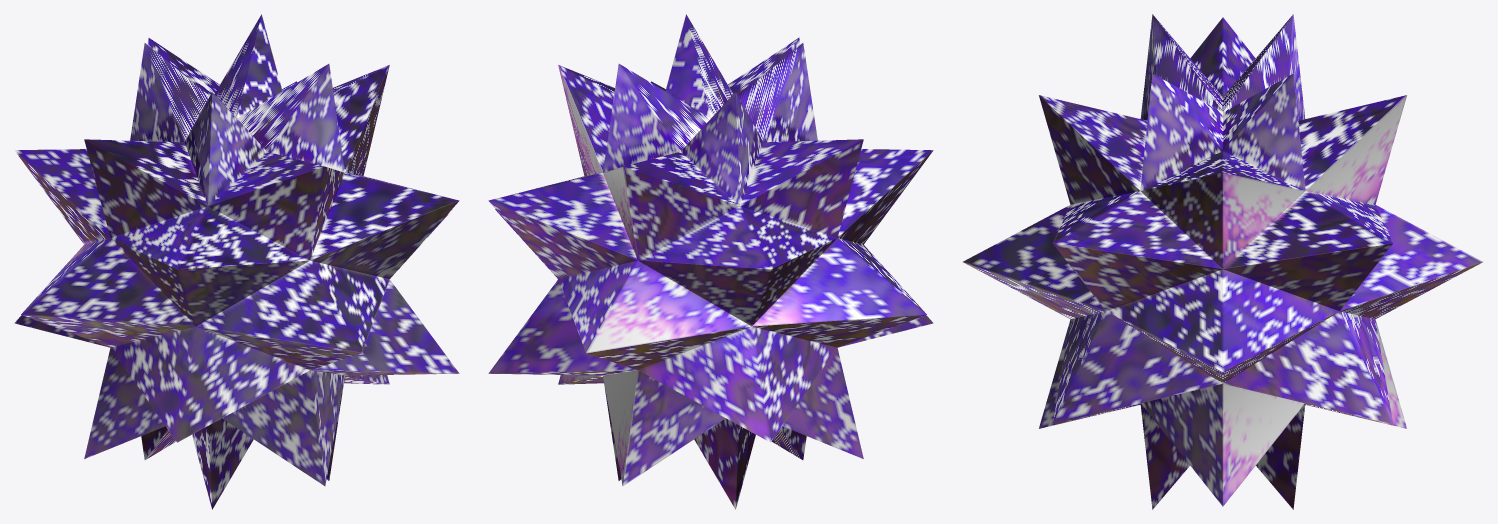
The model's file is artifact.obj.
3 views of the same model, side by side, from view 1: azimuth 30°, elevation 25°; view 2: azimuth 150°, elevation 25°; view 3: azimuth 270°, elevation 25° (orthographic). The views are drawn at different scales.
Parts seen in each view (by area): view 1: frm-sphere2; view 2: frm-sphere2; view 3: frm-sphere2.
Boxes of the visible parts, left/top/right/bottom form: frm-sphere2: left=14, top=14, right=459, bottom=509; frm-sphere2: left=488, top=14, right=933, bottom=509; frm-sphere2: left=963, top=14, right=1482, bottom=509.
Bounding box in the file's own units: 15.78 × 14.58 × 15.78.
1 material, 1 textured.
